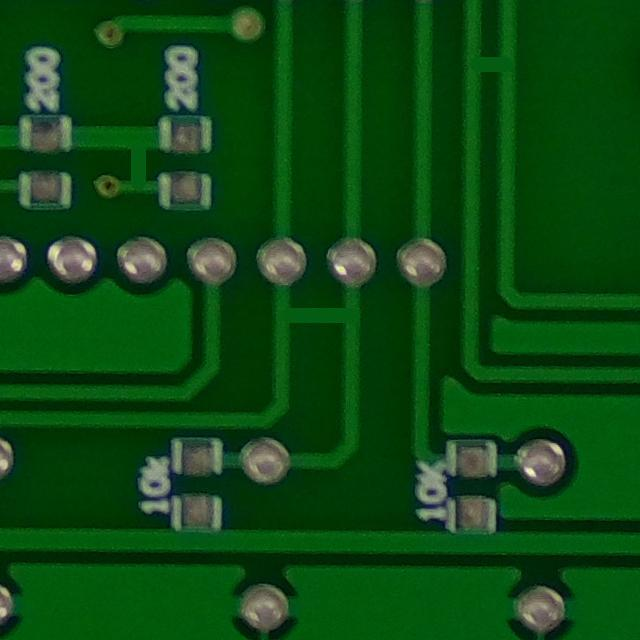short: (260, 289, 381, 351)
